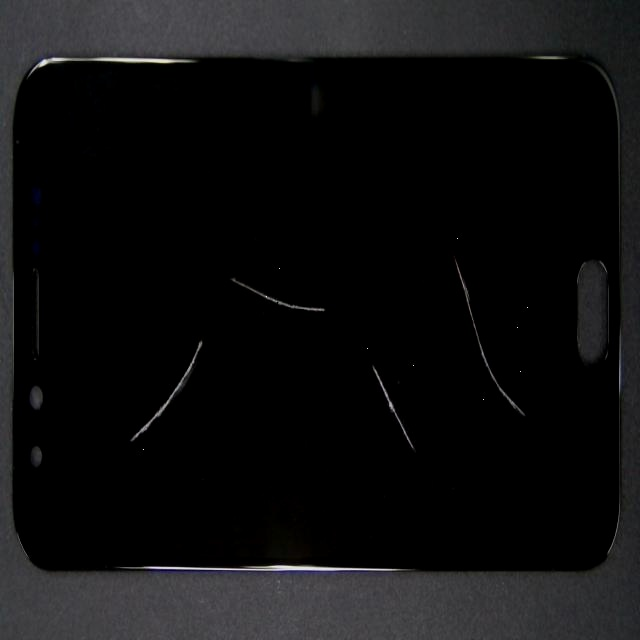scratch: (193, 82, 640, 514), (180, 194, 539, 583), (55, 136, 385, 469), (139, 107, 257, 537)
